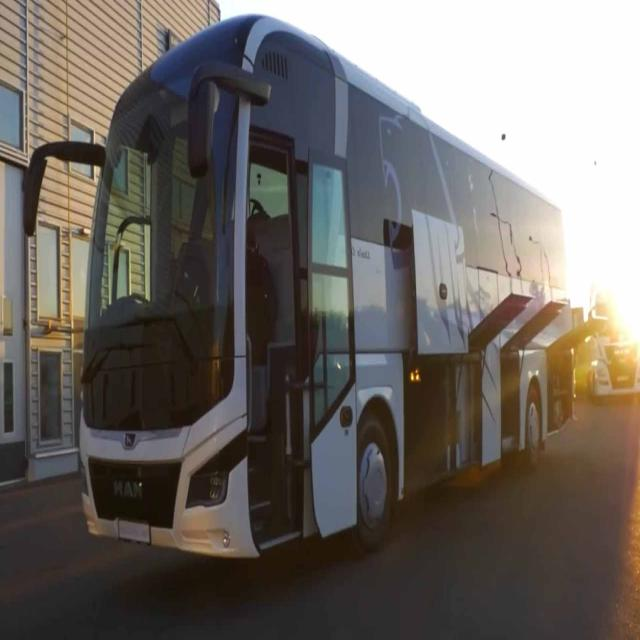bus: (79, 12, 580, 568)
